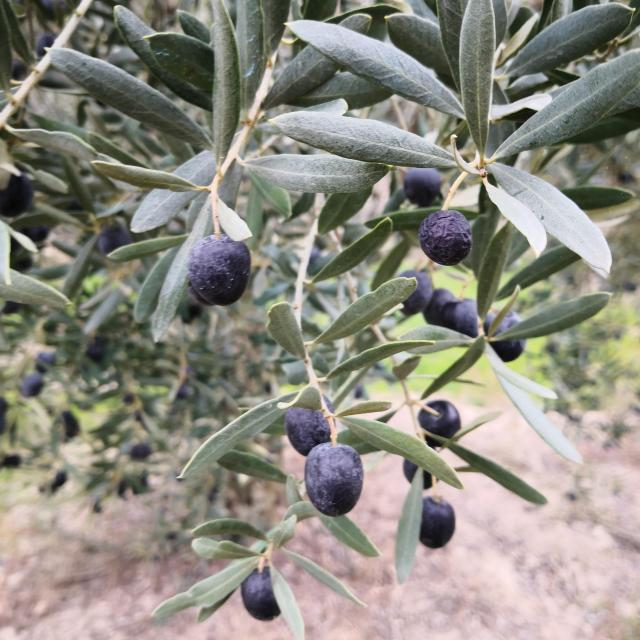Healthy: (286, 20, 465, 119), (47, 49, 212, 149), (491, 50, 640, 160), (484, 163, 611, 277), (256, 111, 457, 168), (340, 416, 463, 489), (459, 0, 507, 160), (239, 154, 392, 193), (310, 217, 392, 284), (401, 270, 479, 337), (304, 442, 364, 517), (188, 235, 251, 306), (240, 565, 281, 621), (285, 408, 331, 457), (417, 400, 461, 449), (419, 496, 455, 549), (491, 340, 525, 362), (496, 311, 520, 334)
